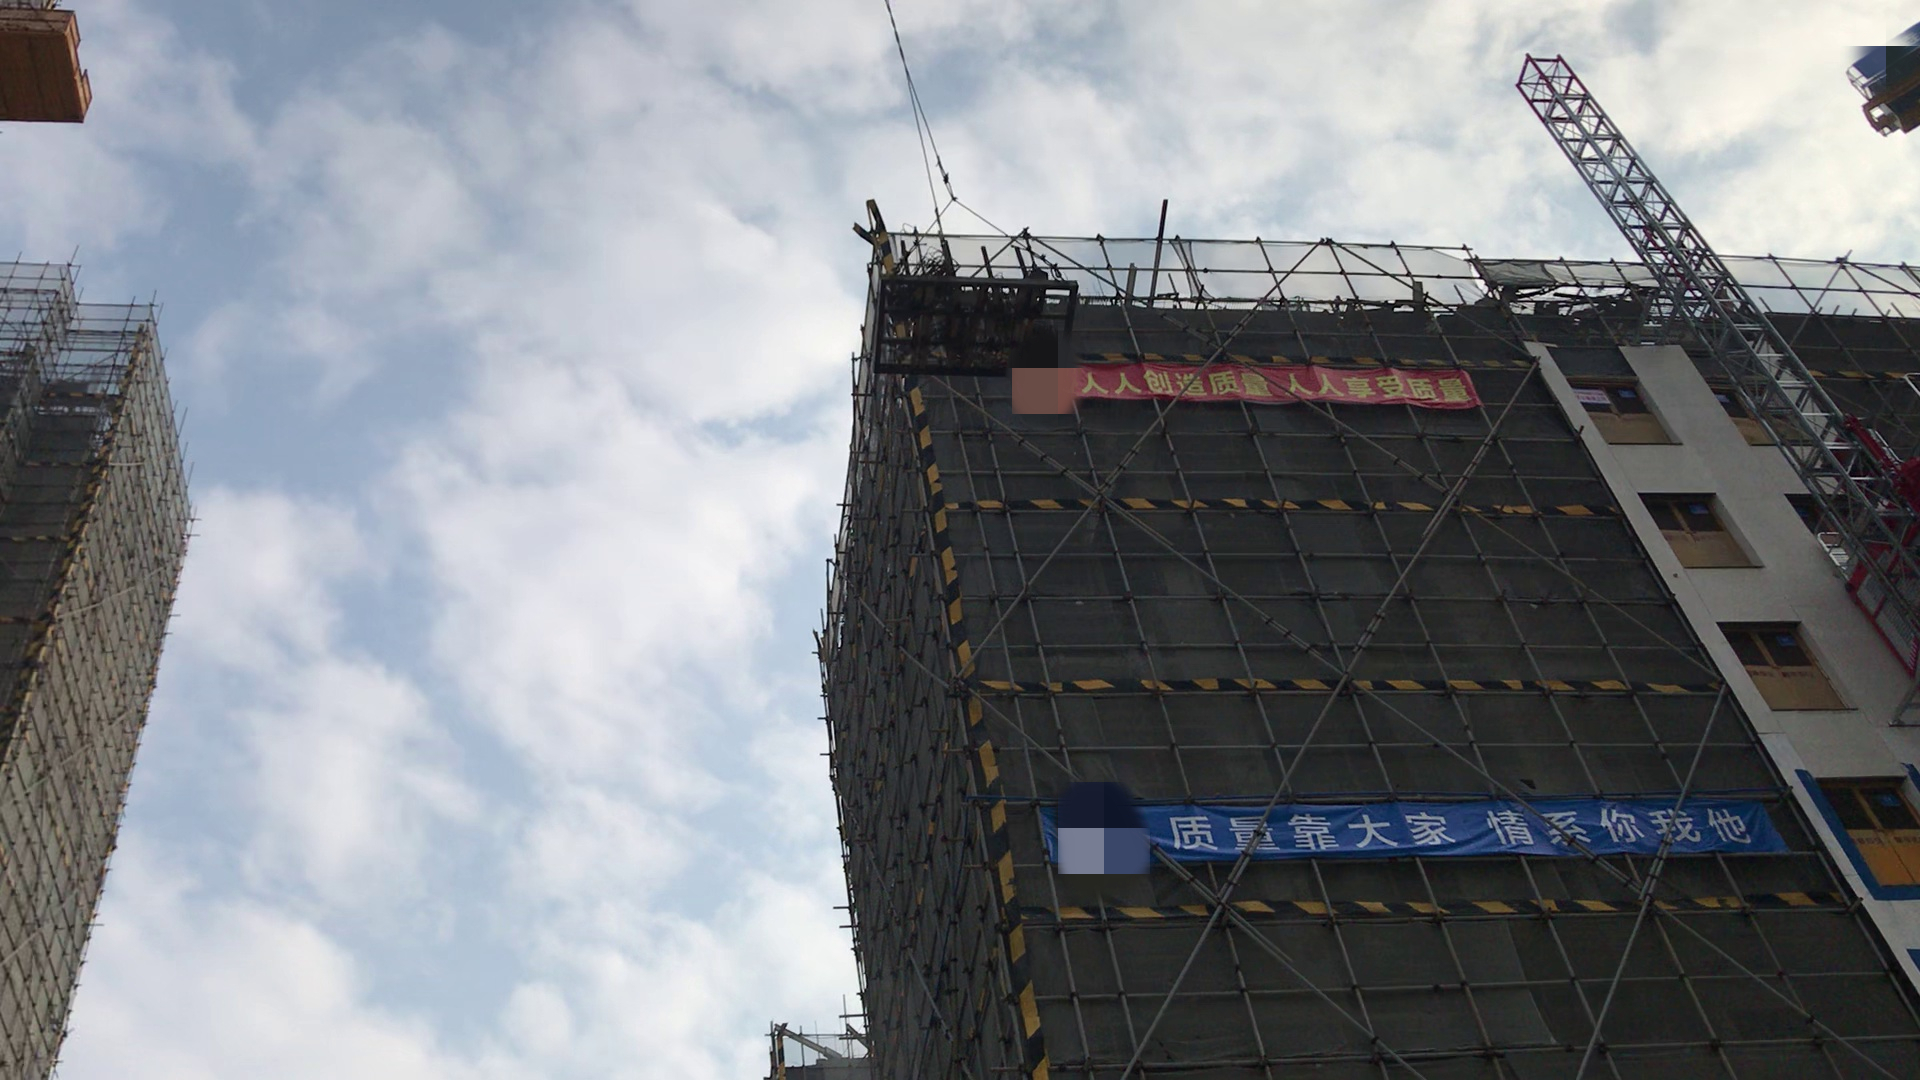slogan: (1065, 761, 1778, 881), (1042, 316, 1515, 452)
